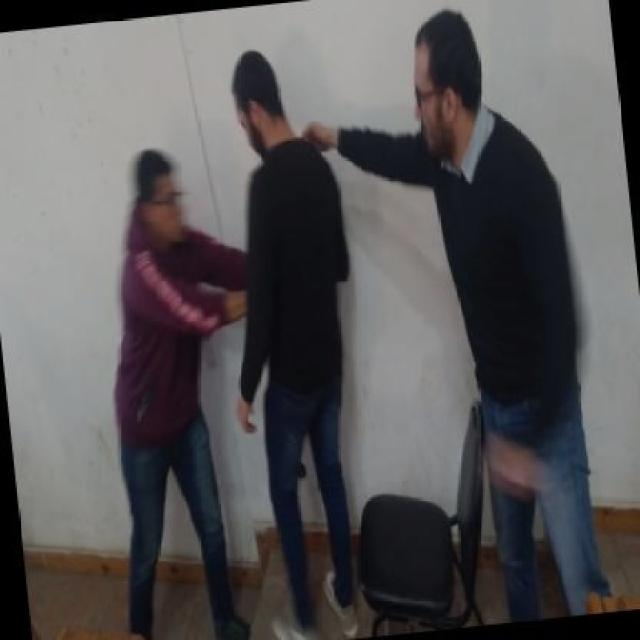non-fight: (300, 2, 616, 619), (224, 41, 363, 640), (106, 143, 250, 640)
